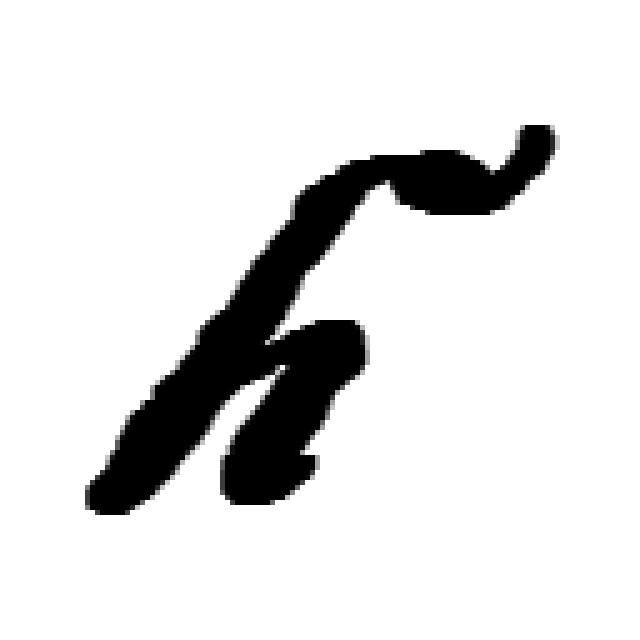H: (85, 125, 560, 520)
